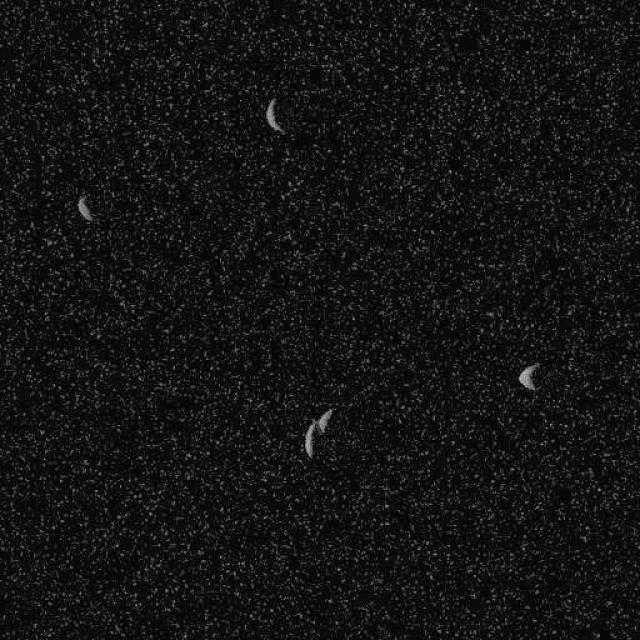D2: (302, 408, 334, 458), (264, 96, 285, 135), (516, 361, 540, 391), (76, 194, 95, 222)
